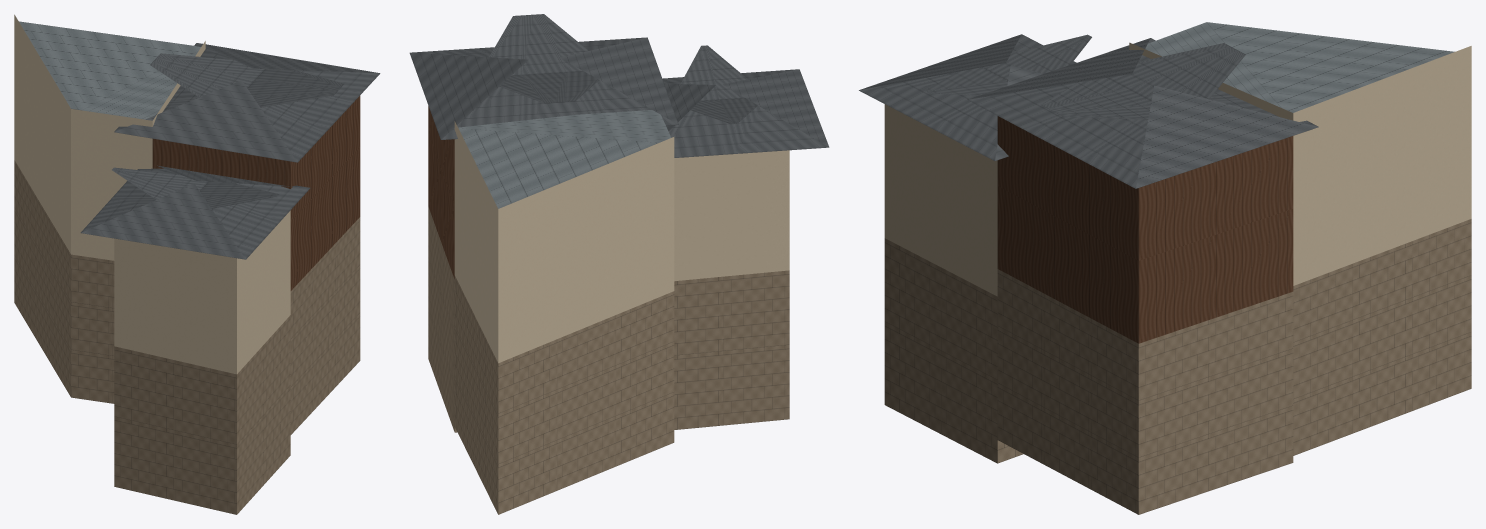
File: bld_c41_-9_497.gltf
3 renders of one model, left to right at view 1: azimuth 30°, elevation 25°; view 2: azimuth 150°, elevation 25°; view 3: azimuth 270°, elevation 25°, orthographic. The views are drawn at different scales.
Visible parts, largest first — view 1: bld_c41_-9_497; view 2: bld_c41_-9_497; view 3: bld_c41_-9_497.
Boxes of the visible parts, box(x1,y1,x2,y2) form: bld_c41_-9_497: box(14, 14, 380, 514); bld_c41_-9_497: box(409, 14, 829, 514); bld_c41_-9_497: box(859, 22, 1471, 514).
Size of the model in its own units: 12.85 by 11.7 by 16.49.
Materials: 6 (6 with a texture image).
